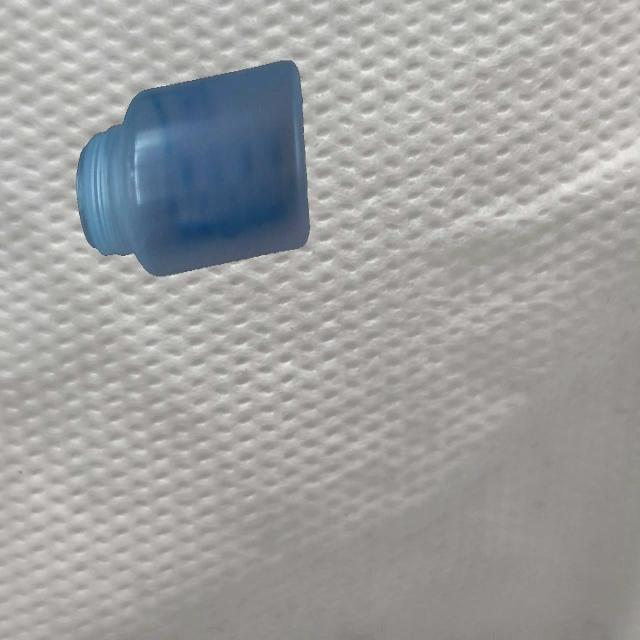bottle: (76, 57, 312, 281)
